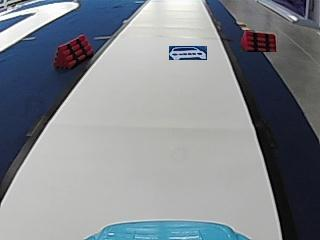bomb: (55, 32, 92, 69)
